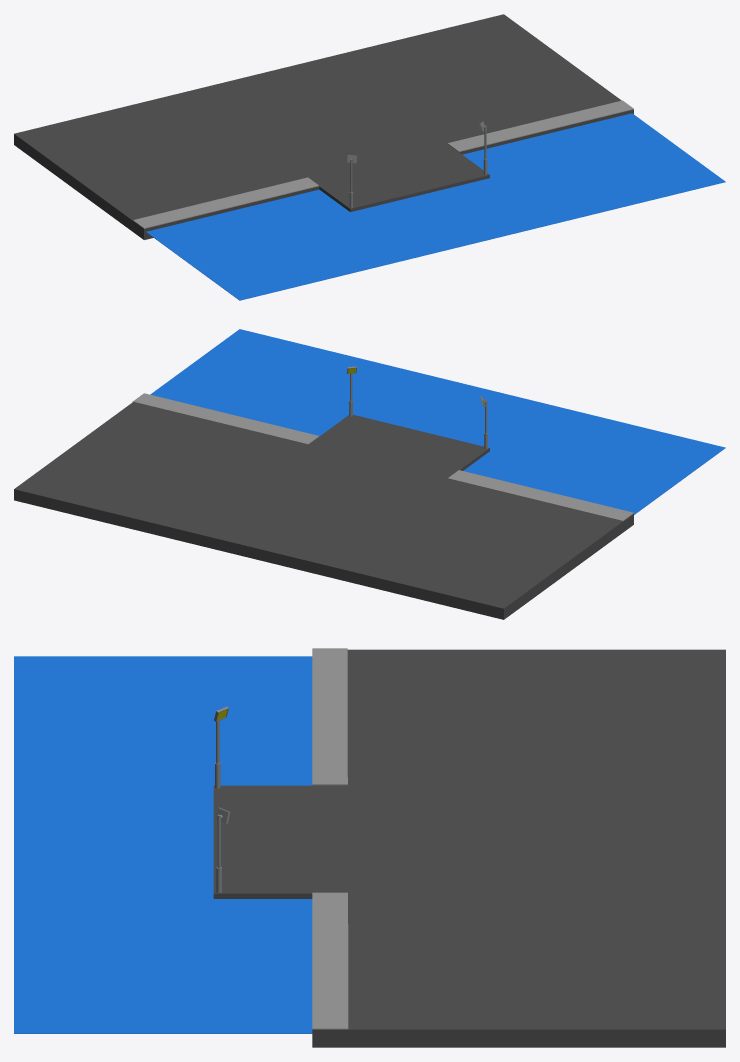
File: Map2.fbx
3 renders of one model, top to bottom at view 1: azimuth 30°, elevation 25°; view 2: azimuth 150°, elevation 25°; view 3: azimuth 270°, elevation 25°, orthographic. The views are drawn at different scales.
Parts seen in each view (by area): view 1: Harbour; view 2: Harbour; view 3: Harbour.
Part boxes in pixels (bbox=[...]): Harbour: bbox=[14, 14, 725, 300]; Harbour: bbox=[14, 329, 725, 619]; Harbour: bbox=[14, 648, 725, 1047].
Bounding box in the file's own units: 9128 × 1099 × 7227.
